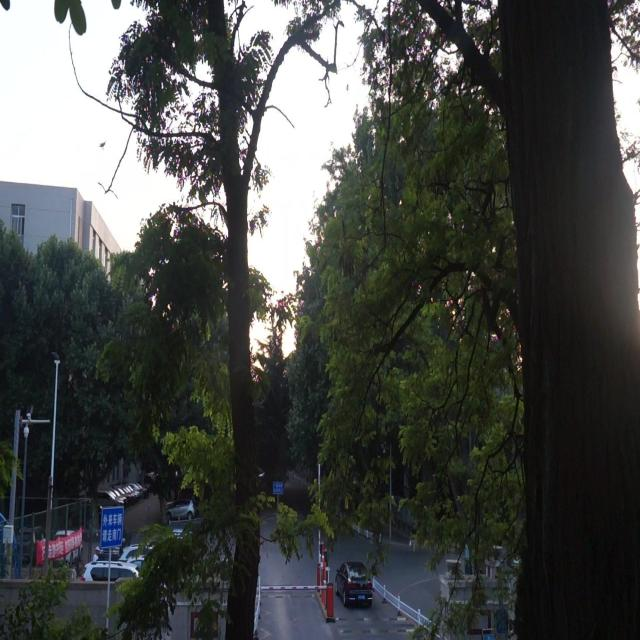drone: (95, 136, 108, 156)
